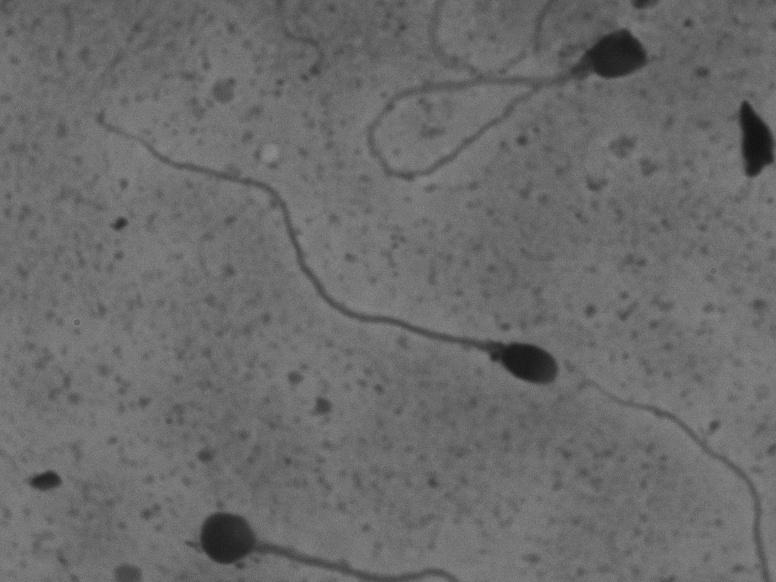Abnormal: (351, 14, 664, 194)
Normal: (54, 100, 578, 402)
